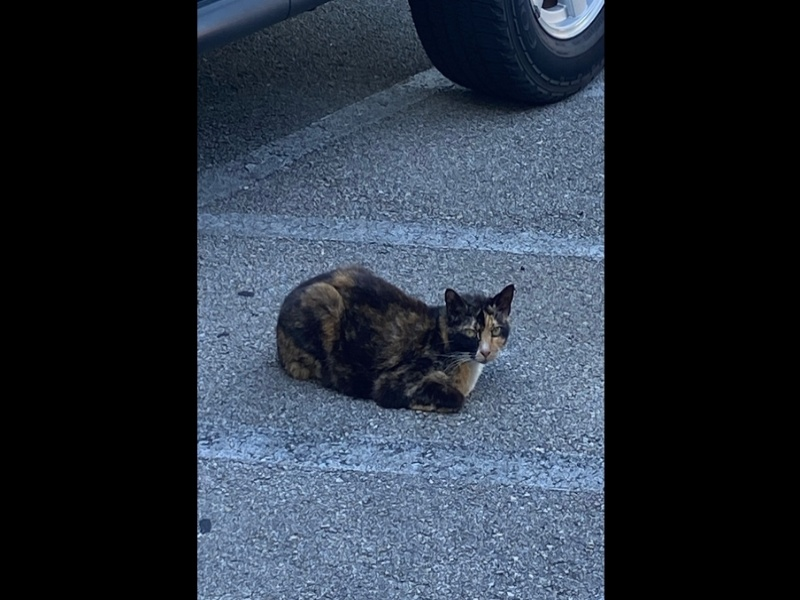cat: (274, 262, 518, 420)
